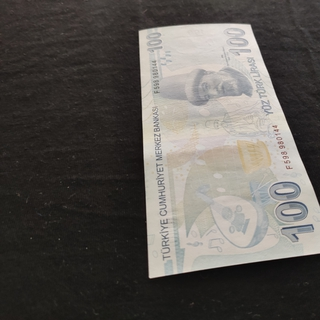100TLBack: (138, 22, 320, 279)
